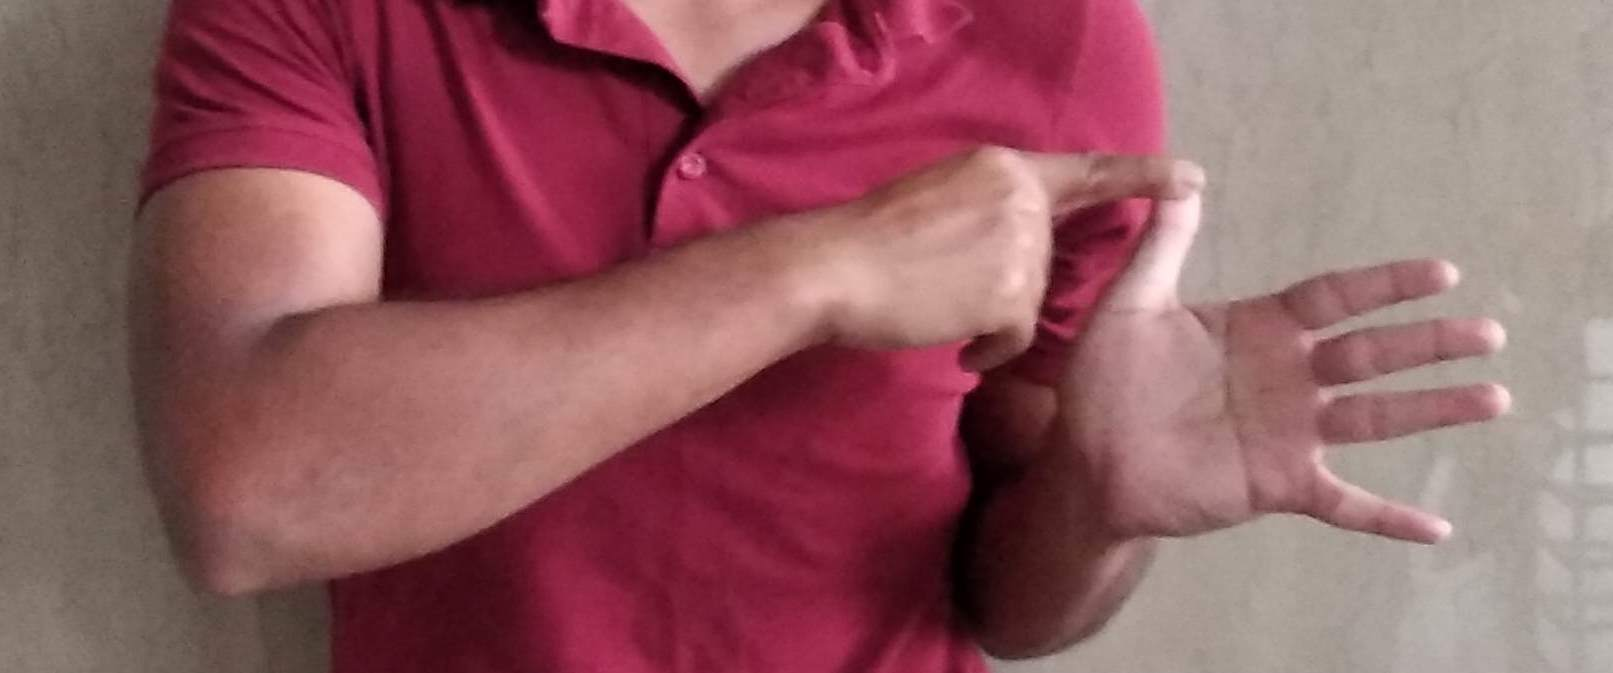a: (873, 131, 1497, 554)
